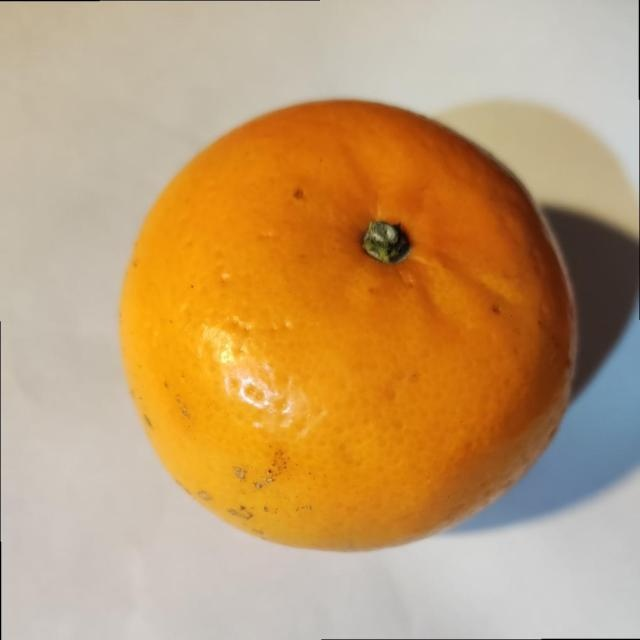agrume: (117, 96, 579, 552)
